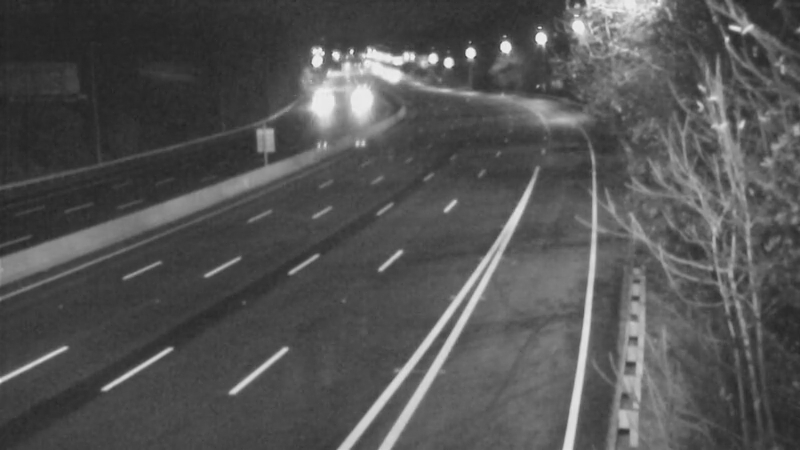vehicle: (297, 86, 347, 136), (332, 75, 382, 125)
